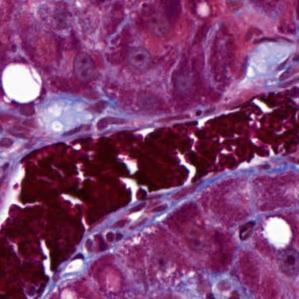inflammation: (234, 215, 259, 242)
